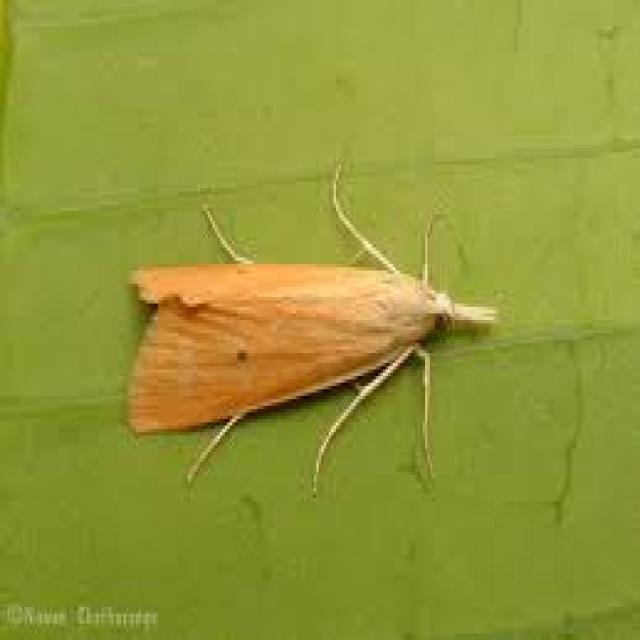yellow-stem-borer: (88, 165, 567, 535)
